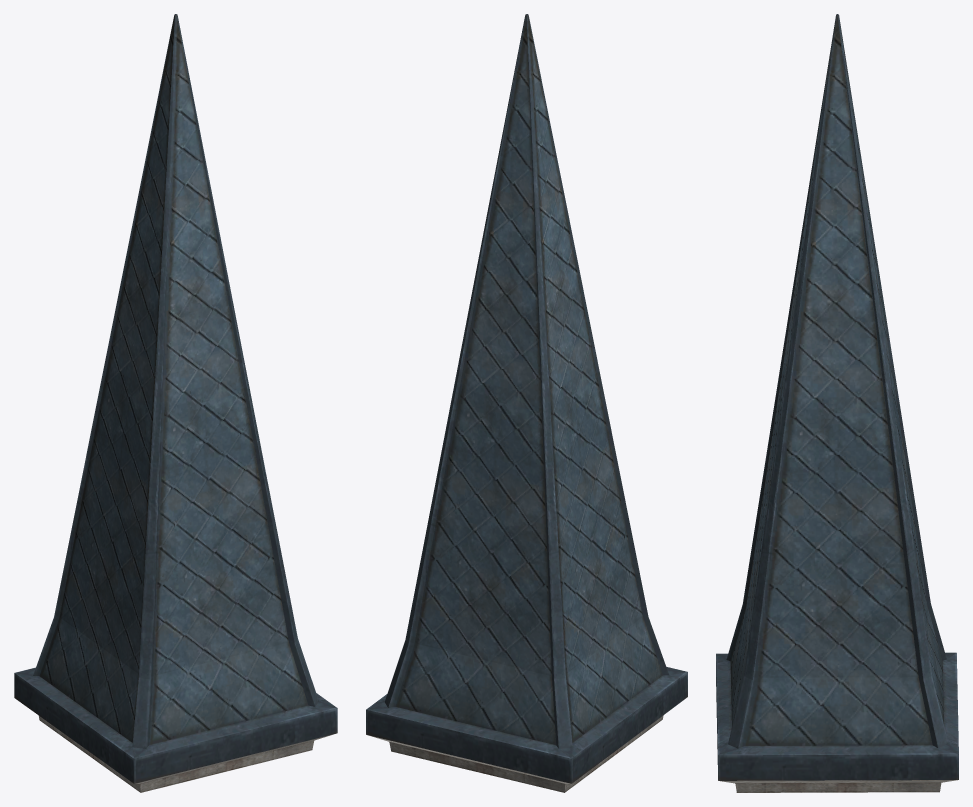
File: bg_lut_lucastle_churchtower09_sm_ksh.FBX
3 renders of one model, left to right at view 1: azimuth 30°, elevation 25°; view 2: azimuth 150°, elevation 25°; view 3: azimuth 270°, elevation 25°, orthographic.
Visible parts, largest first — view 1: bg_lut_lucastle_churchtower09_sm_ksh; view 2: bg_lut_lucastle_churchtower09_sm_ksh; view 3: bg_lut_lucastle_churchtower09_sm_ksh.
Boxes of the visible parts, x1,y1,x2,y2 form: bg_lut_lucastle_churchtower09_sm_ksh: [14, 14, 337, 792]; bg_lut_lucastle_churchtower09_sm_ksh: [366, 14, 687, 792]; bg_lut_lucastle_churchtower09_sm_ksh: [716, 14, 958, 792].
Size of the model in its own units: 263 by 878 by 263.
